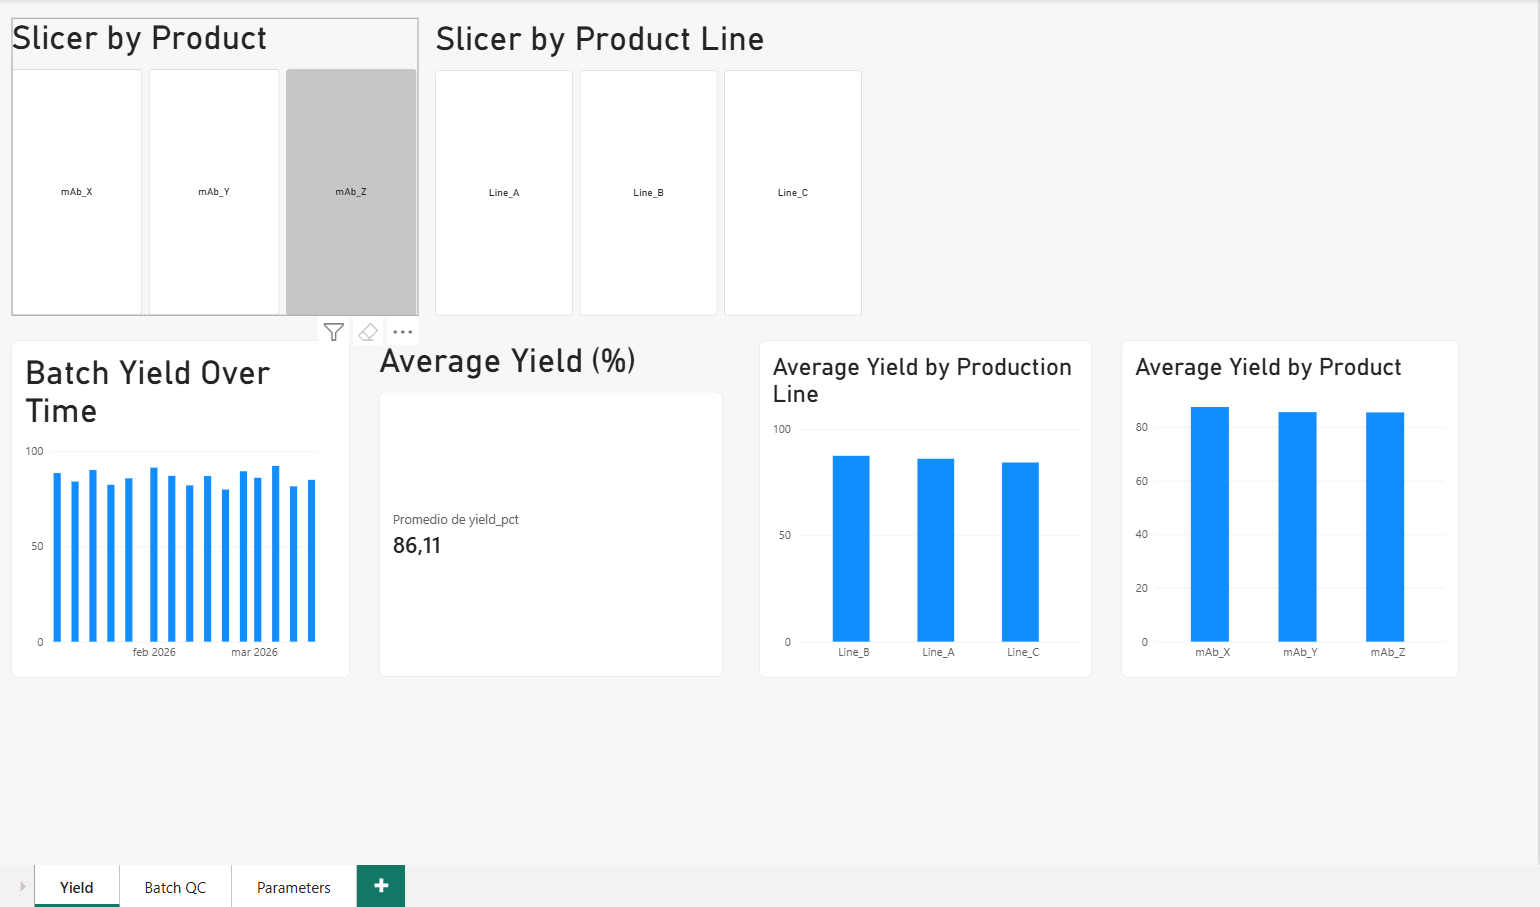

The dashboard page shown, as its layout file describes it:
{"tool":"powerbi","page":{"name":"Yield","canvas":[1920,1080],"ordinal":0},"visuals":[{"type":"cardVisual","title":"Average Yield (%)","fields":{"Data":["Avg(batches_clean_for_powerbi.yield_pct)"]},"box":[474.6,426.1,429.7,420.7],"z":0},{"type":"columnChart","title":"Batch Yield Over Time","fields":{"Category":["batches_clean_for_powerbi.start_date"],"Y":["Avg(batches_clean_for_powerbi.yield_pct)"]},"box":[16.2,426.1,422.5,420.7],"z":2},{"type":"advancedSlicerVisual","title":"Slicer by Product","fields":{"Values":["batches_clean_for_powerbi.product_name"]},"box":[16.2,23.4,507.7,371.2],"z":3},{"type":"columnChart","title":"Average Yield by Production Line","fields":{"Category":["batches_clean_for_powerbi.production_line"],"Y":["Avg(batches_clean_for_powerbi.yield_pct)"]},"box":[947.4,426.1,415.3,420.7],"z":4},{"type":"columnChart","title":"Average Yield by Product","fields":{"Category":["batches_clean_for_powerbi.product_name"],"Y":["Avg(batches_clean_for_powerbi.yield_pct)"]},"box":[1400.4,426.1,420.7,420.7],"z":5},{"type":"advancedSlicerVisual","title":"Slicer by Product Line","fields":{"Values":["batches_clean_for_powerbi.production_line"]},"box":[544.7,25.2,533.9,370.3],"z":6}]}

Visuals, with their boxes on the page's 1920x1080 design canvas (x1, y1, x2, y2). These are canvas units, not pixel positions in the 1540x907 screenshot, which may show the page scaled, cropped or inside an application window:
"Average Yield (%)" cardVisual: pyautogui.locateOnScreen(475, 426, 904, 847)
"Batch Yield Over Time" columnChart: pyautogui.locateOnScreen(16, 426, 439, 847)
"Slicer by Product" advancedSlicerVisual: pyautogui.locateOnScreen(16, 23, 524, 395)
"Average Yield by Production Line" columnChart: pyautogui.locateOnScreen(947, 426, 1363, 847)
"Average Yield by Product" columnChart: pyautogui.locateOnScreen(1400, 426, 1821, 847)
"Slicer by Product Line" advancedSlicerVisual: pyautogui.locateOnScreen(545, 25, 1079, 396)
